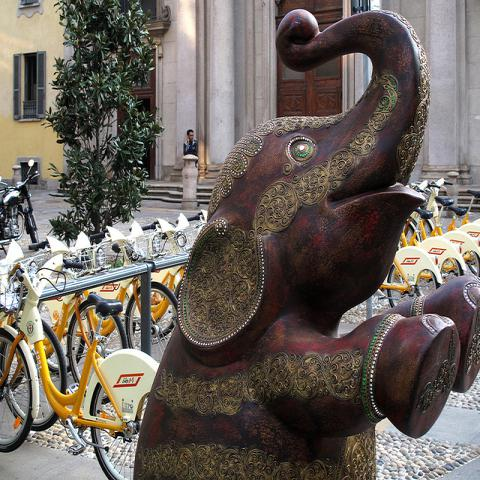motorcycle: (0, 158, 41, 257)
